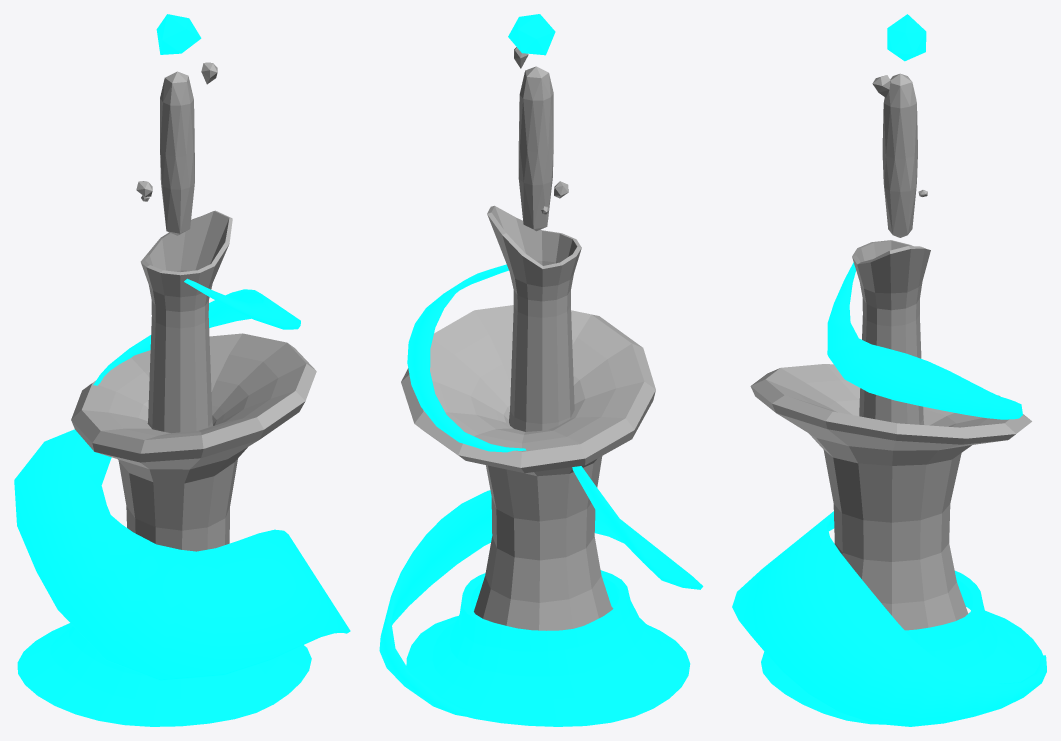
Rendered from lvl3W.fbx.
3 views of the same model, side by side, from view 1: azimuth 30°, elevation 25°; view 2: azimuth 150°, elevation 25°; view 3: azimuth 270°, elevation 25° (orthographic).
Parts seen in each view (by area): view 1: lvl3W; view 2: lvl3W; view 3: lvl3W.
Boxes of the visible parts, left/top/right/bottom form: lvl3W: left=14, top=14, right=350, bottom=726; lvl3W: left=379, top=14, right=703, bottom=726; lvl3W: left=732, top=14, right=1046, bottom=726.
Size of the model in its own units: 620 by 1380 by 605.
